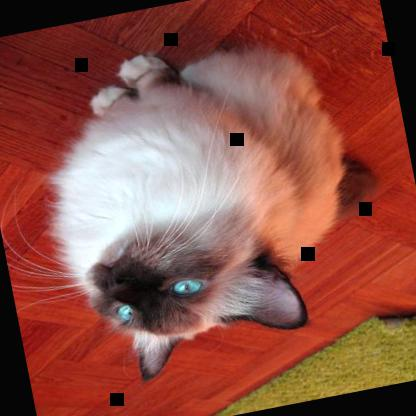cat: (25, 18, 399, 392)
